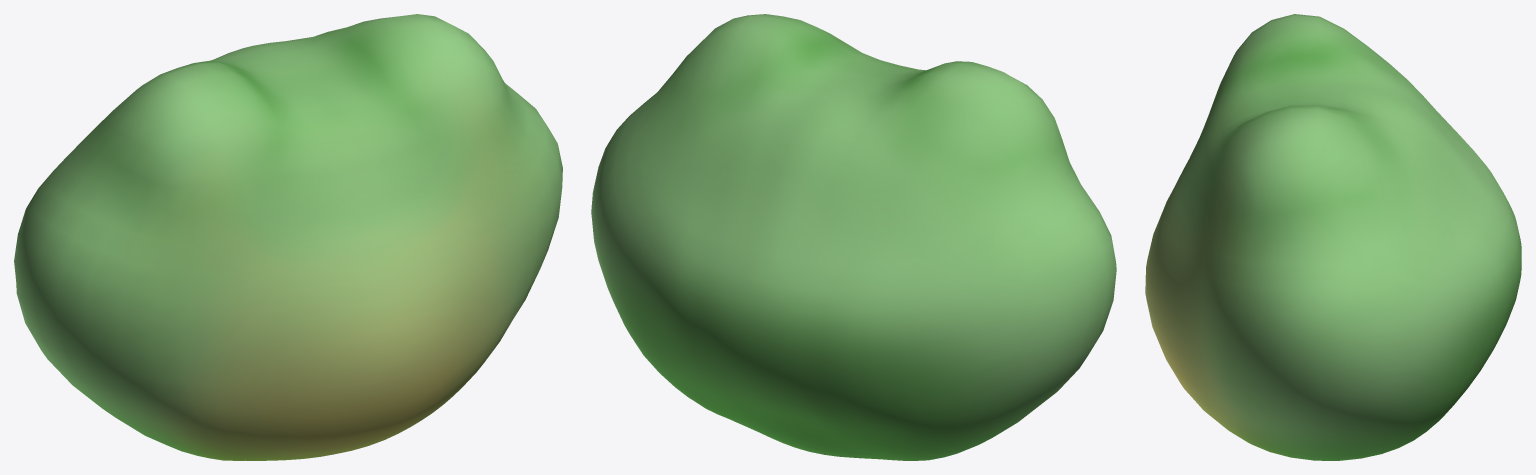
Rendered from Head1.glb.
The picture shows the model from 3 angles, left to right: view 1: azimuth 30°, elevation 25°; view 2: azimuth 150°, elevation 25°; view 3: azimuth 270°, elevation 25°; orthographic projection. The views are drawn at different scales.
Visible parts, largest first — view 1: Head1; view 2: Head1; view 3: Head1.
Part boxes in pixels (x1,y1,x2,y2): Head1: (14,14,562,460); Head1: (591,14,1116,460); Head1: (1145,14,1521,460).
Bounding box in the file's own units: 0.4706 × 0.344 × 0.3287.
Materials: 1 (1 with a texture image).
